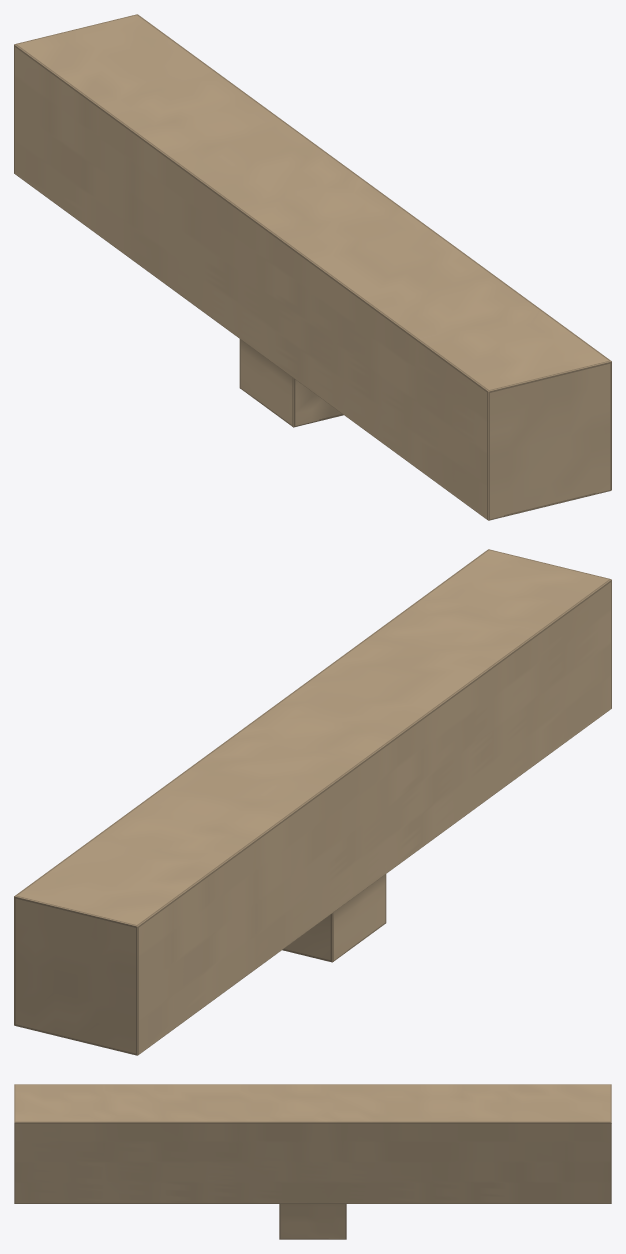
File: beam-z.glb
3 renders of one model, top to bottom at view 1: azimuth 30°, elevation 25°; view 2: azimuth 150°, elevation 25°; view 3: azimuth 270°, elevation 25°, orthographic. The views are drawn at different scales.
Visible parts, largest first — view 1: beam-z; view 2: beam-z; view 3: beam-z.
Part boxes in pixels (x1,y1,x2,y2): beam-z: (14,14,611,520); beam-z: (14,549,611,1055); beam-z: (14,1084,611,1239).
Bounding box in the file's own units: 0.1208 × 0.1808 × 0.8008.
